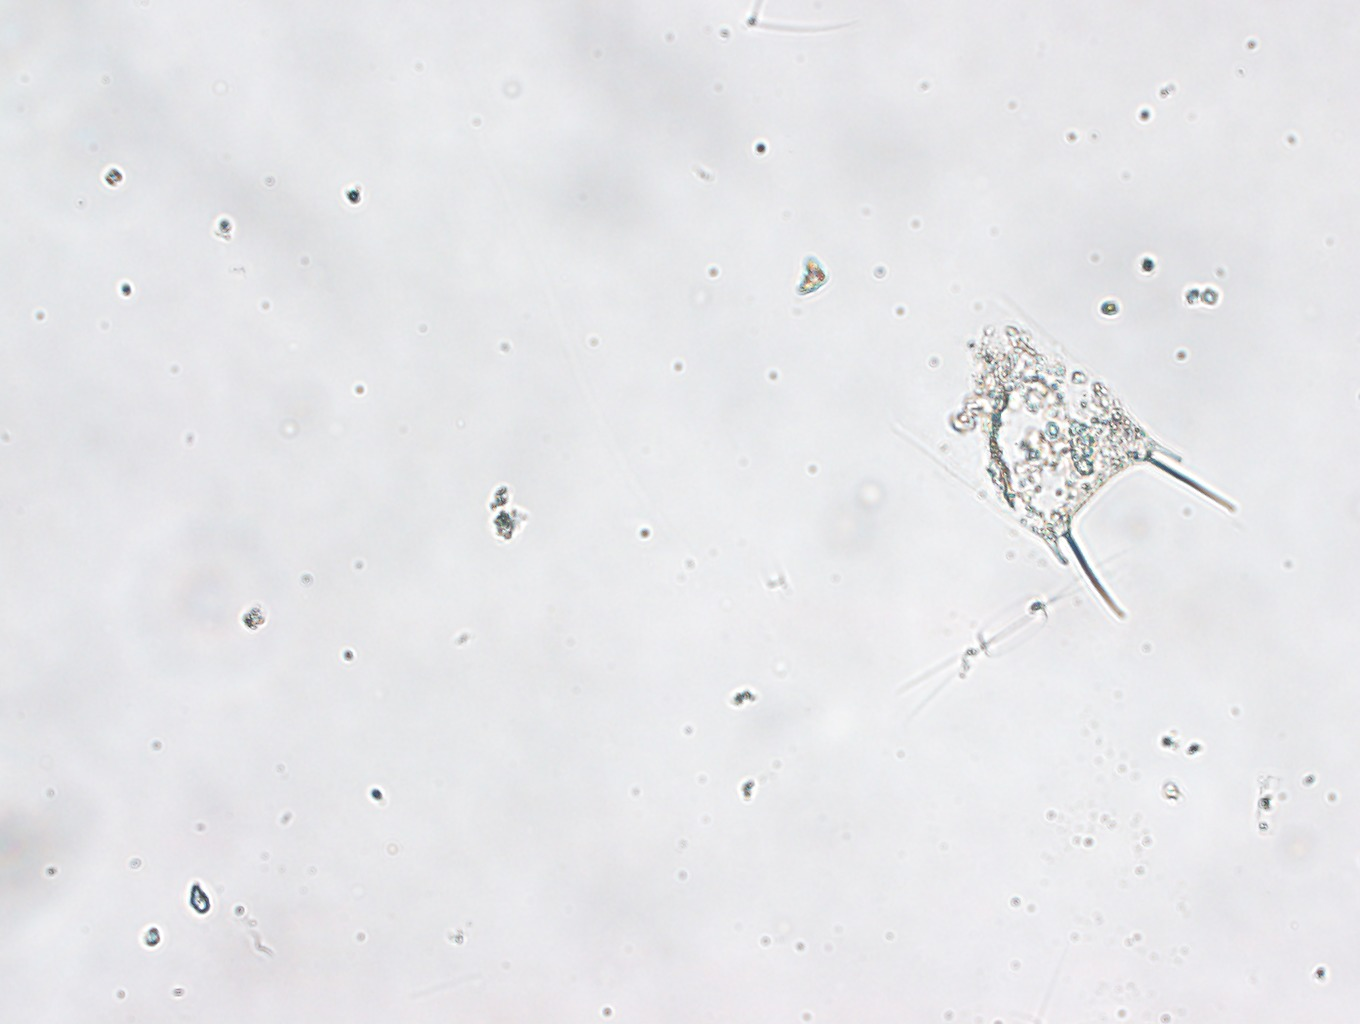biddulphia: (891, 293, 1236, 618)
